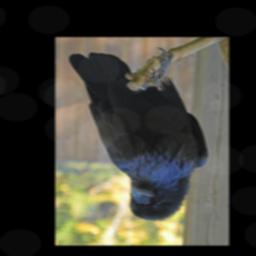Crow: (69, 48, 209, 222)
